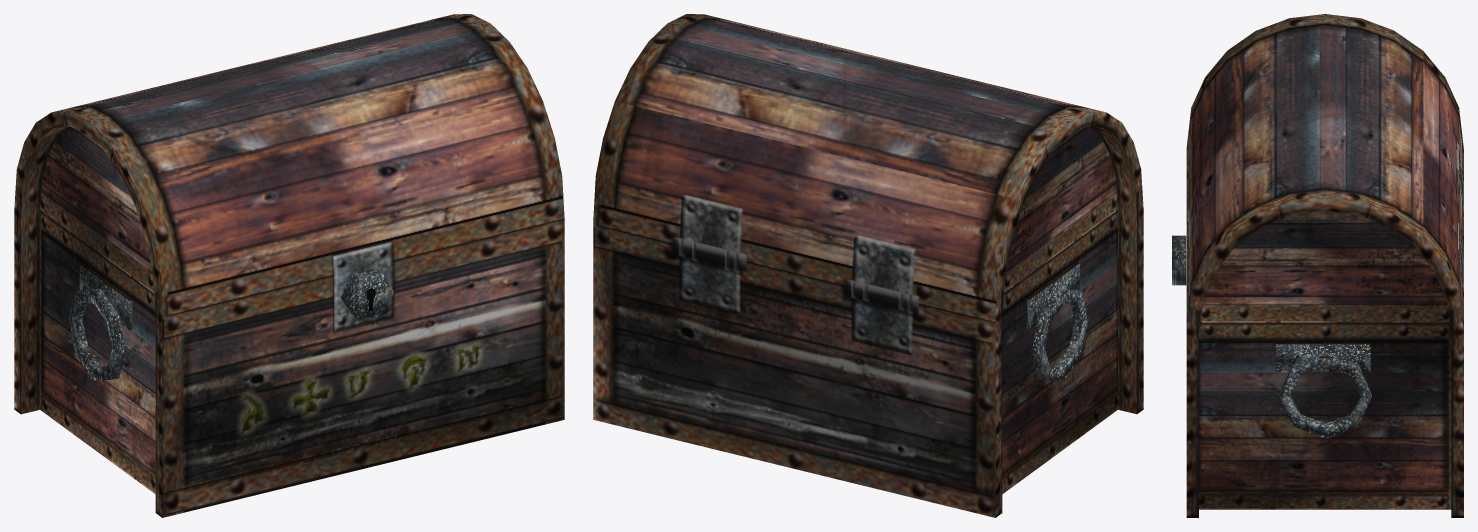
Rendered from Chest.fbx.
The picture shows the model from 3 angles, left to right: view 1: azimuth 30°, elevation 25°; view 2: azimuth 150°, elevation 25°; view 3: azimuth 270°, elevation 25°; orthographic projection. The views are drawn at different scales.
Parts seen in each view (by area): view 1: Chest; view 2: Chest; view 3: Chest.
Boxes of the visible parts, x1=… form: Chest: x1=14, y1=14, x2=564, y2=517; Chest: x1=593, y1=14, x2=1143, y2=517; Chest: x1=1172, y1=14, x2=1463, y2=517.
Bounding box in the file's own units: 1.05 × 0.8525 × 0.7038.
